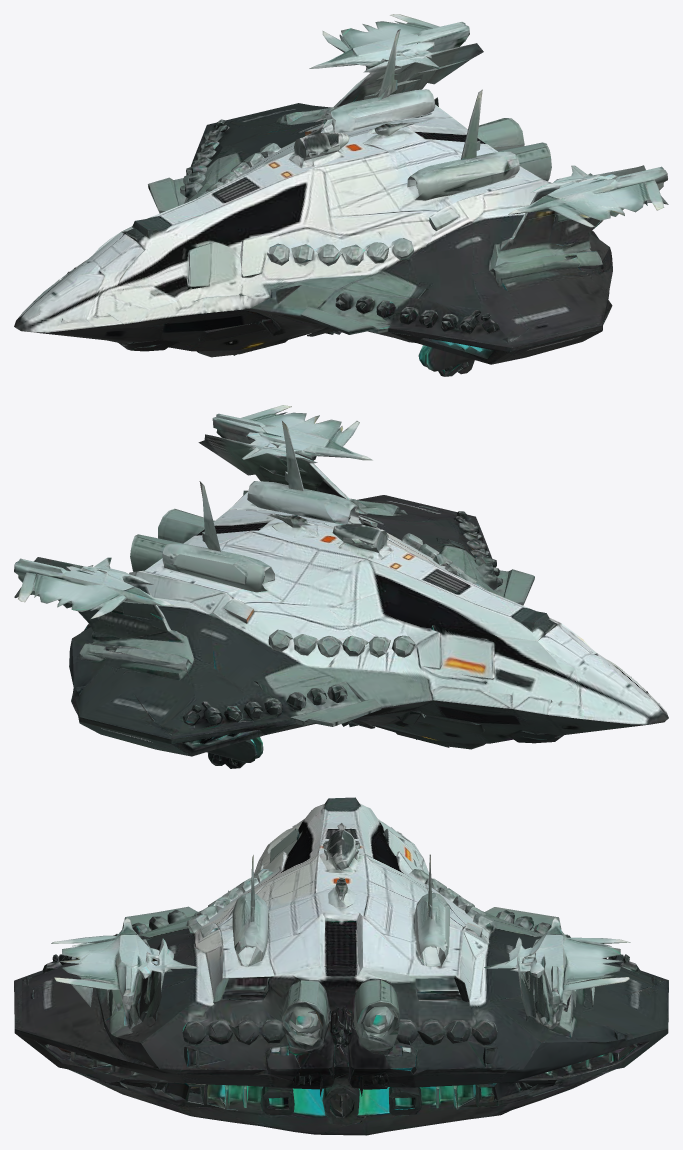
File: vessel-hive.glb
3 renders of one model, top to bottom at view 1: azimuth 30°, elevation 25°; view 2: azimuth 150°, elevation 25°; view 3: azimuth 270°, elevation 25°, orthographic. The views are drawn at different scales.
Size of the model in its own units: 1.9 by 0.8053 by 1.8.
1 material, 1 textured.
